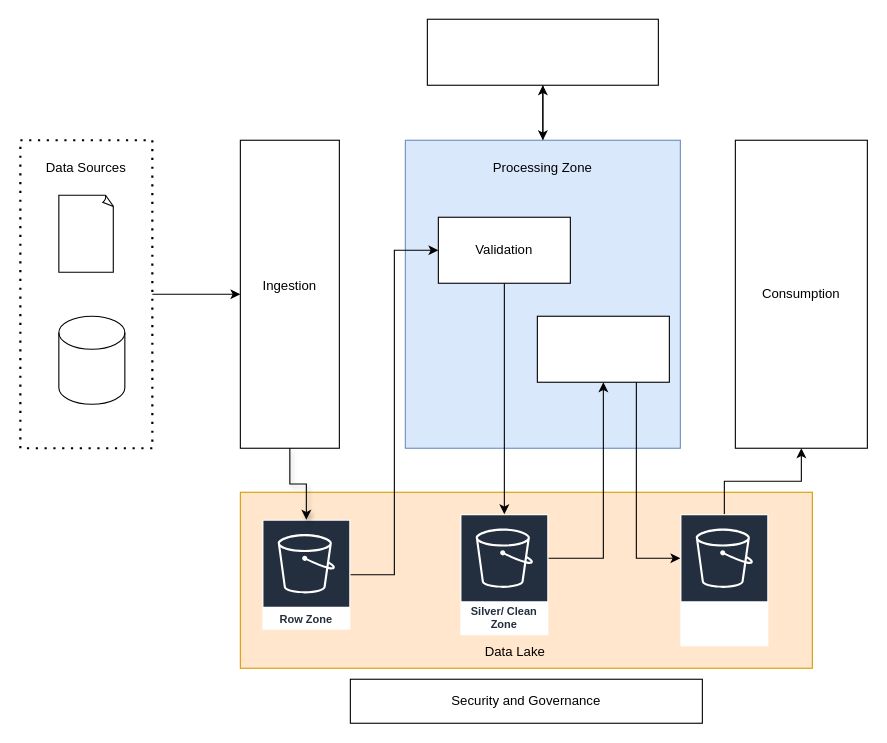
Some shapes in this 887 by 743 pixel diagram are drawn without their labels. Here are the shapes that lost their labels. From the top down, the centre of each, then its label:
At point (542, 51): "Cataloging / Search".
At point (602, 348): "Transformsation".
At point (723, 579): "Curated/ Consumption Zone".
